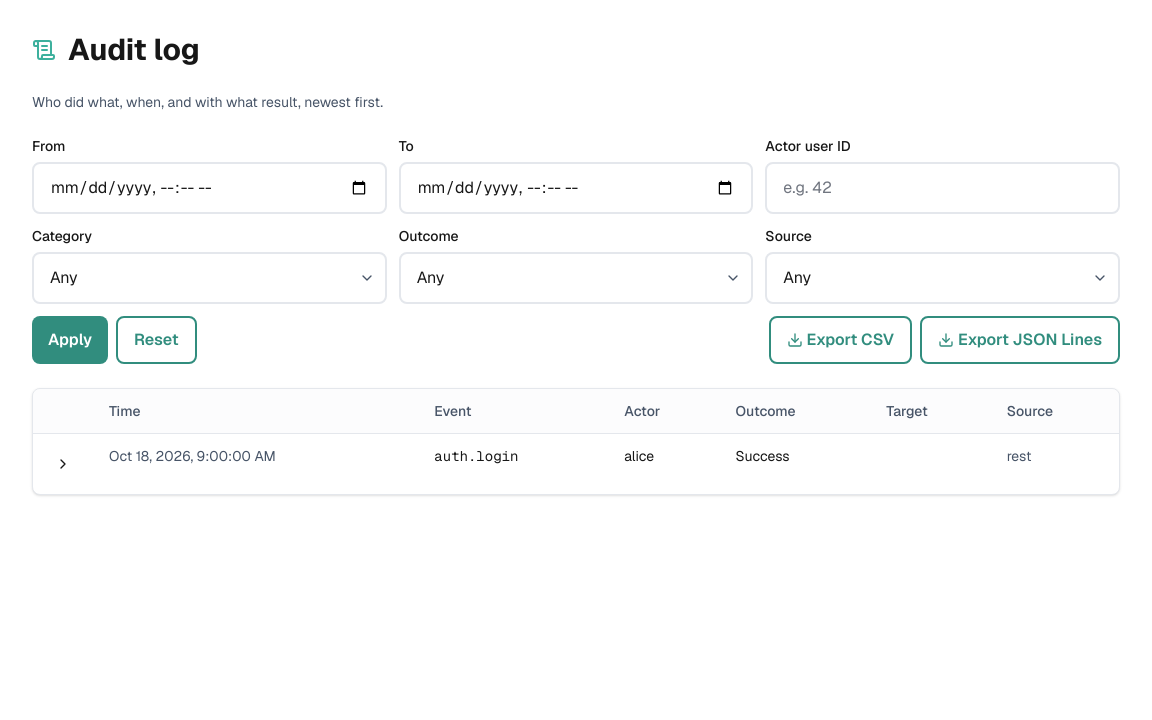
AuditLogPage › shows a failed export's error and keeps the loaded rows
Expected: the text "auth.login" is shown, [418,434,608,494]
Click the button "Export CSV" at coordinates (840, 340), box [769,316,912,364]
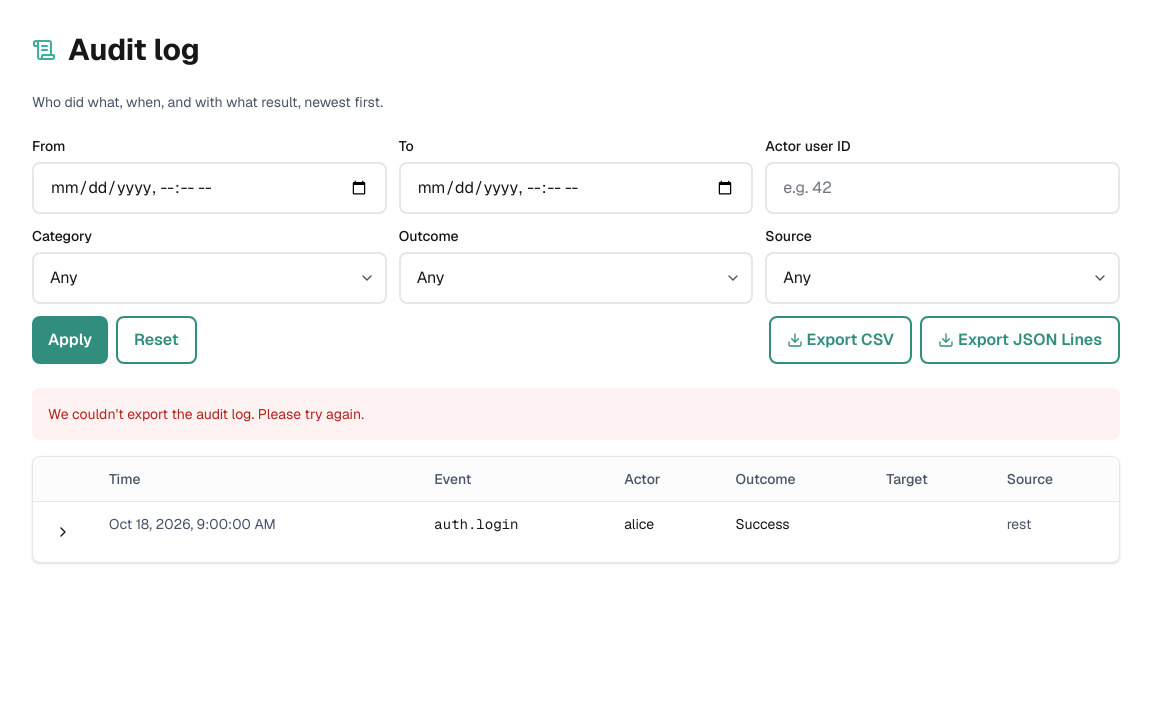
Expected: the text "auth.login" is shown, [418,502,608,562]
Expected: the text "We couldn't export the audit log. Please try again." is shown, [48,405,364,423]
